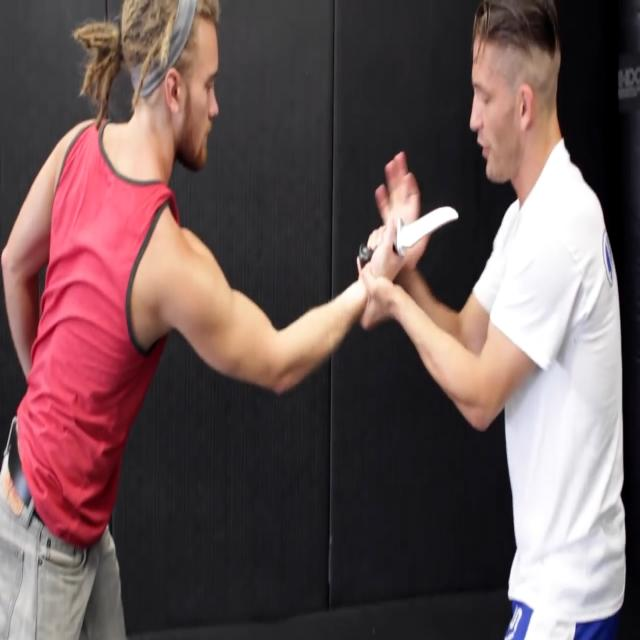knife: (399, 202, 460, 269)
